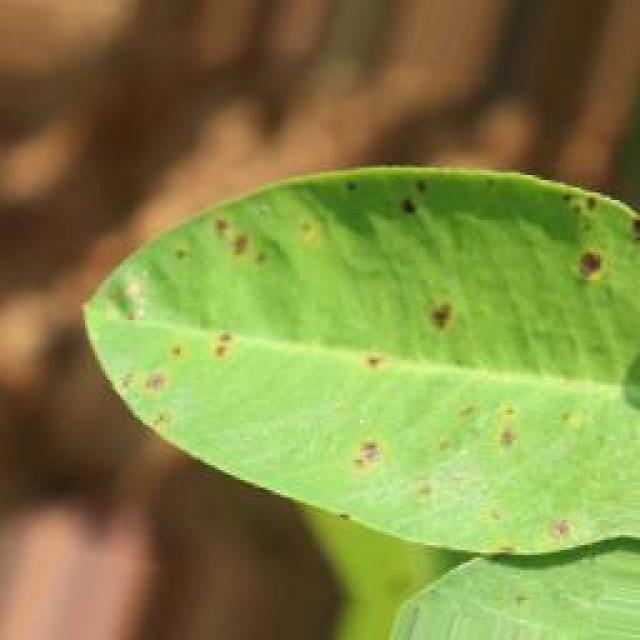Sigatoka: (557, 175, 640, 295), (113, 339, 197, 456), (215, 213, 298, 320), (183, 298, 260, 389), (386, 172, 452, 265), (112, 263, 189, 342), (281, 200, 346, 288), (313, 328, 398, 392), (556, 402, 626, 474), (412, 296, 480, 369), (475, 488, 534, 556), (522, 480, 580, 543), (356, 418, 397, 504), (486, 402, 524, 468)
